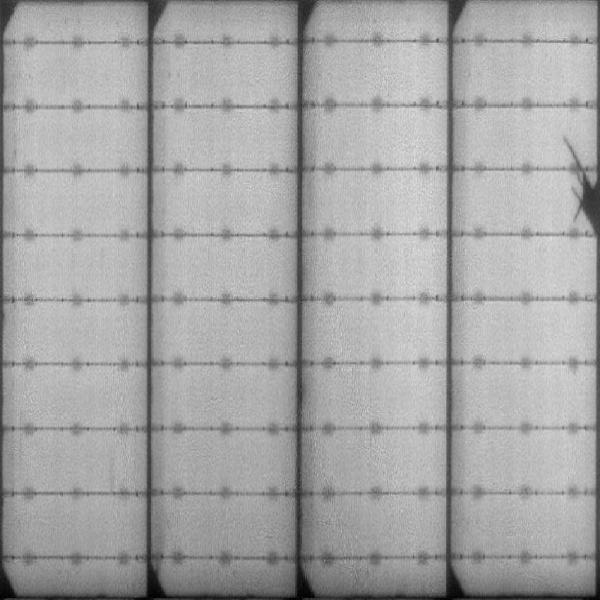broken: (563, 131, 600, 234)
